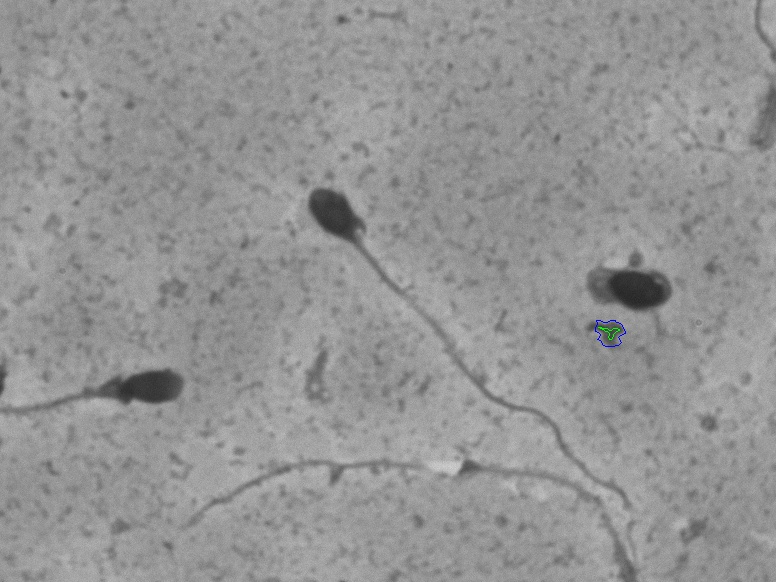Abnormal: (299, 172, 649, 520), (9, 308, 206, 459)
